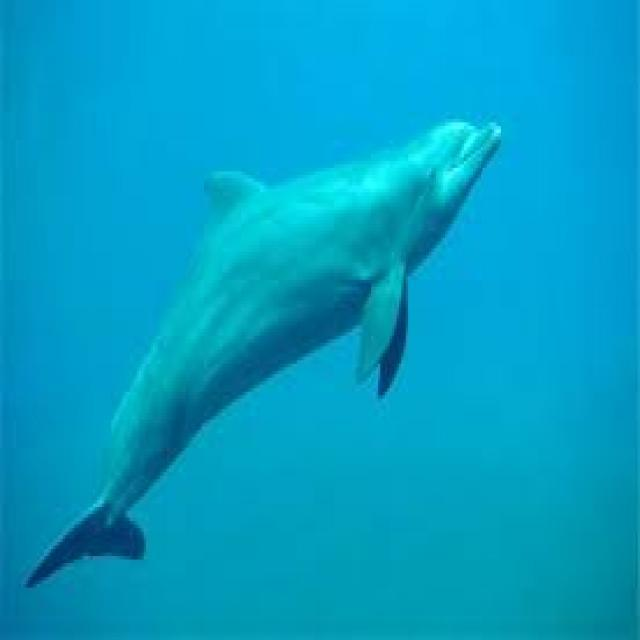dolphin: (23, 88, 517, 636)
